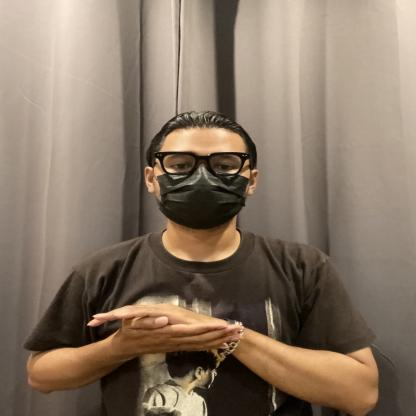Love: (55, 280, 275, 380)
